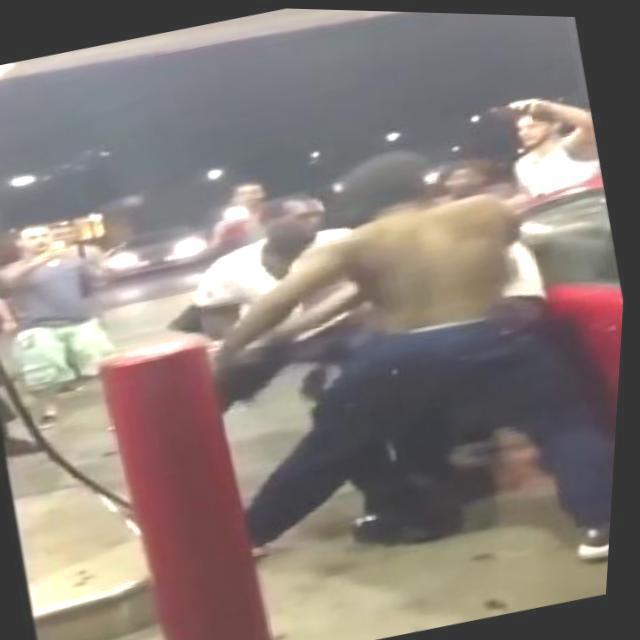fight: (166, 114, 606, 574)
